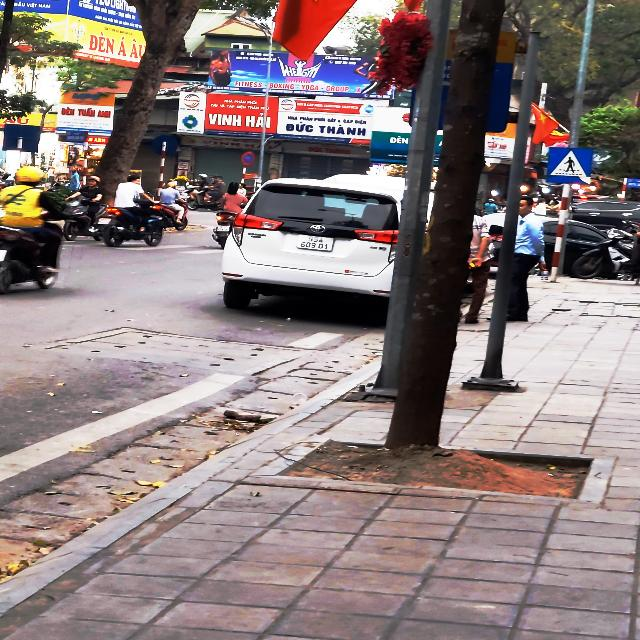license_plate: (297, 235, 336, 253)
